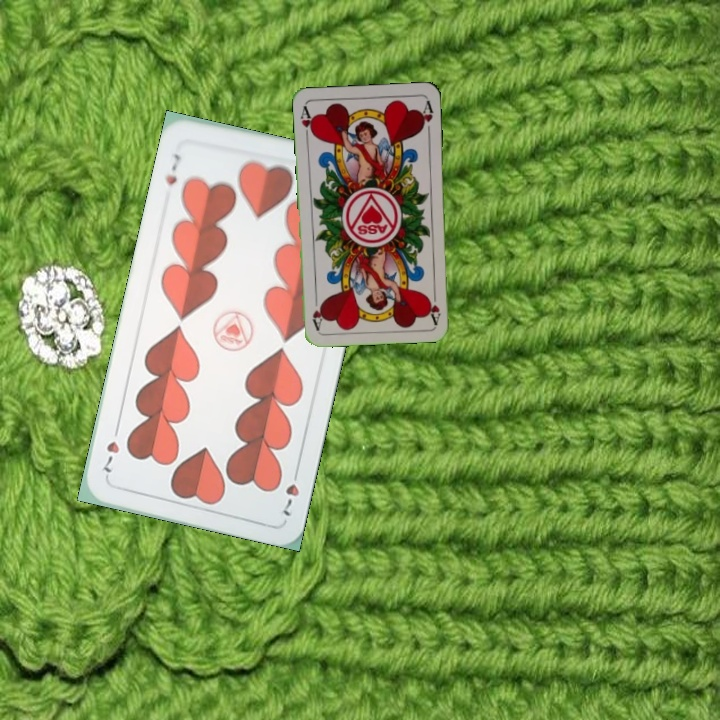H7: (278, 463, 302, 519), (160, 149, 184, 188)
HA: (297, 102, 317, 143), (426, 285, 443, 326)
